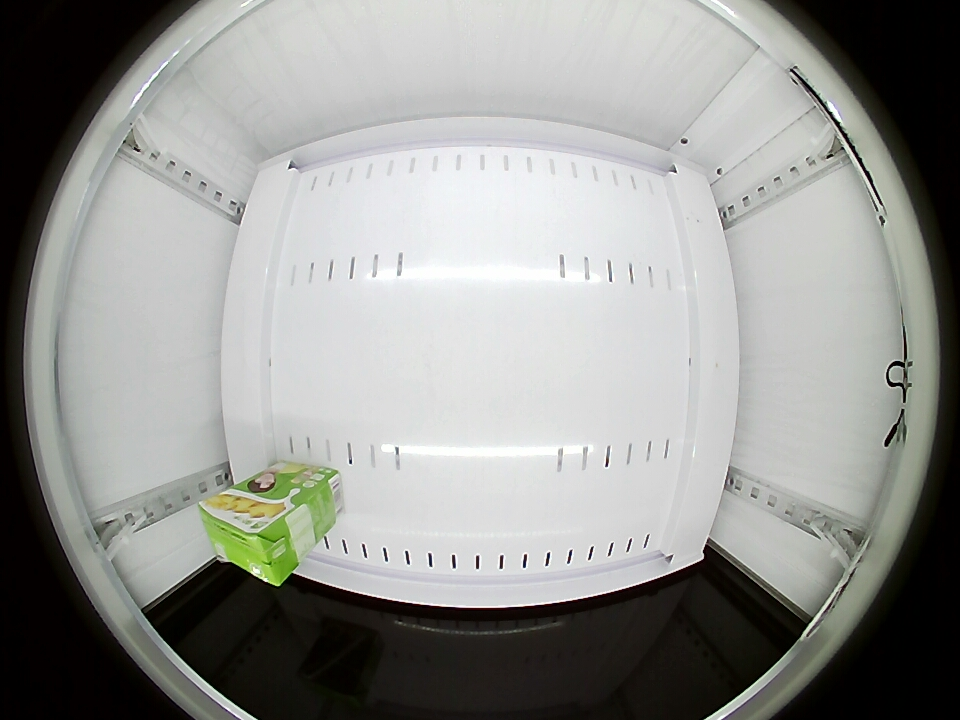mengniuzaocan: (200, 489, 301, 587)
